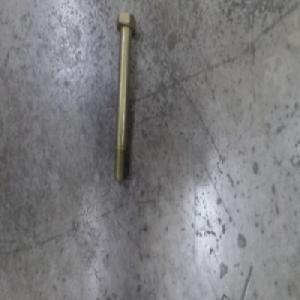Bolt: (112, 10, 137, 185)
